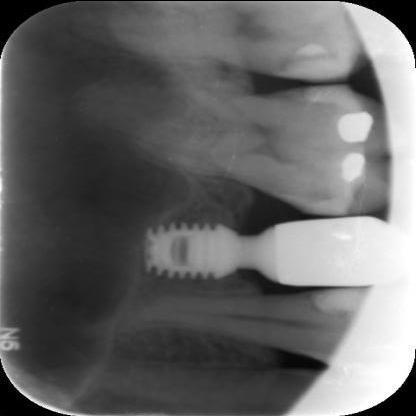Bicon: (145, 218, 281, 283)
